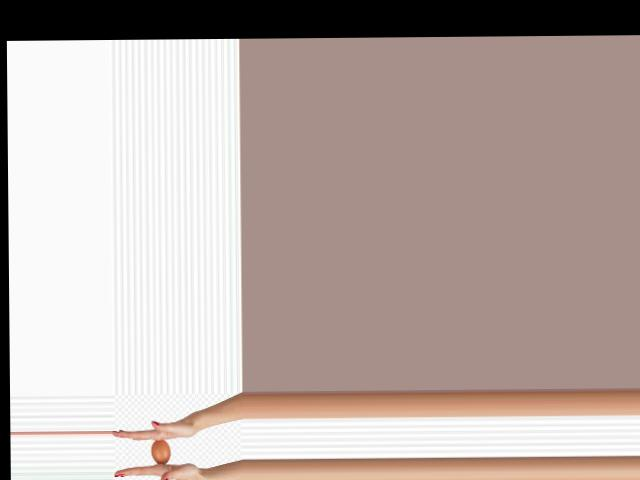egg: (152, 439, 170, 463)
